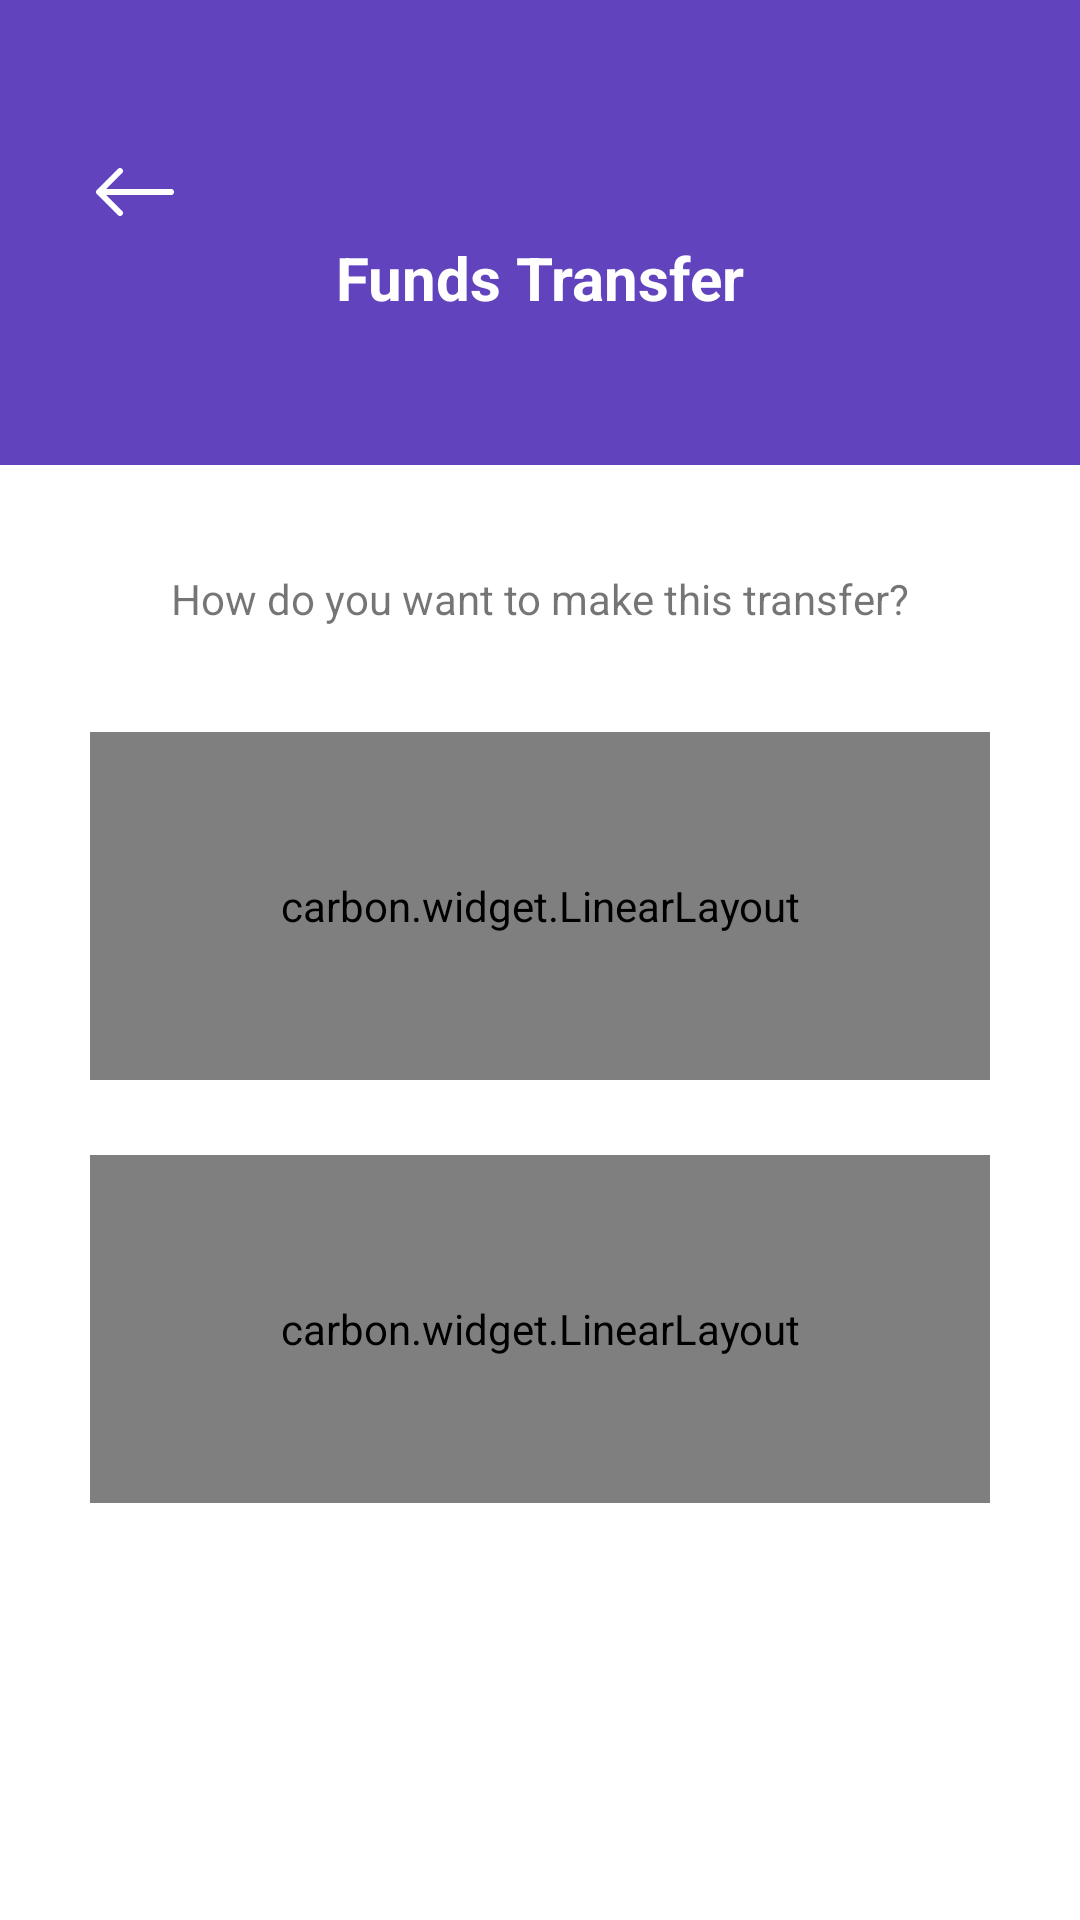

Named icons in this screenshot (1080 x 1920) and their centers, (x,y):
arrow left: (135,192)
